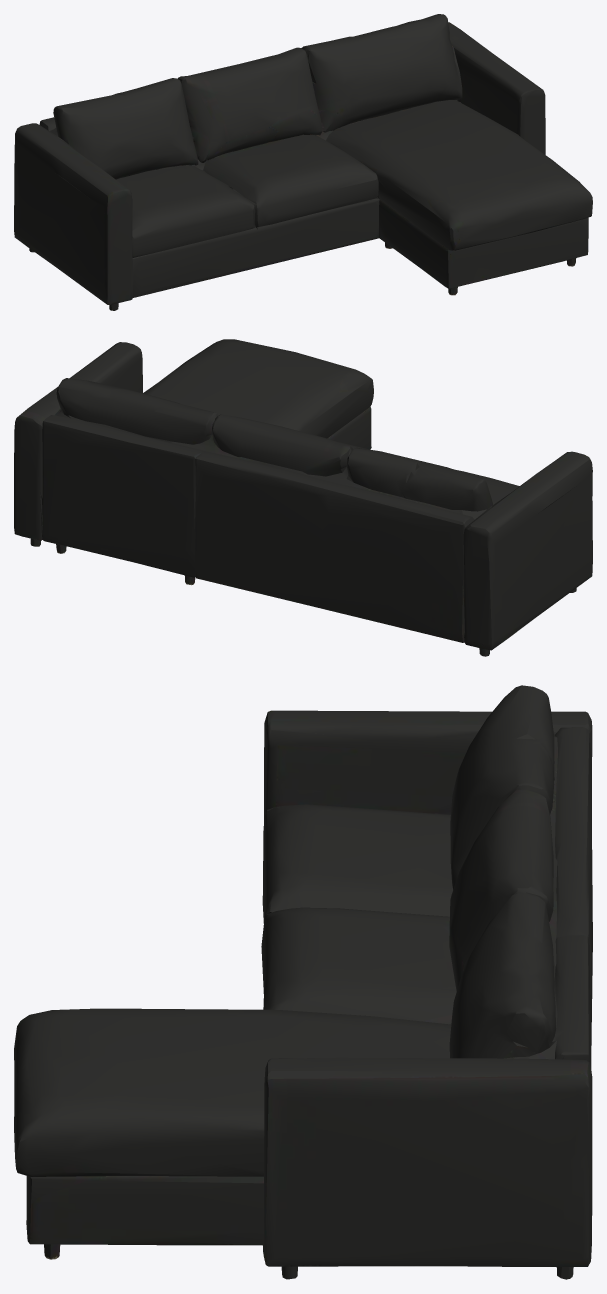
File: 37 - VIMLE - 三人座沙發，含躺椅GrannBomstad 黑色 IKEA 線上購物.glb
The picture shows the model from 3 angles, top to bottom: view 1: azimuth 30°, elevation 25°; view 2: azimuth 150°, elevation 25°; view 3: azimuth 270°, elevation 25°; orthographic projection. The views are drawn at different scales.
Visible parts, largest first — view 1: ProcessedMeshNode; view 2: ProcessedMeshNode; view 3: ProcessedMeshNode.
Boxes of the visible parts, x1=… form: ProcessedMeshNode: x1=14, y1=14, x2=592, y2=310; ProcessedMeshNode: x1=14, y1=339, x2=592, y2=656; ProcessedMeshNode: x1=14, y1=685, x2=592, y2=1279.
Bounding box in the file's own units: 2.52 × 0.8112 × 1.65.
2 materials, 2 textured.
